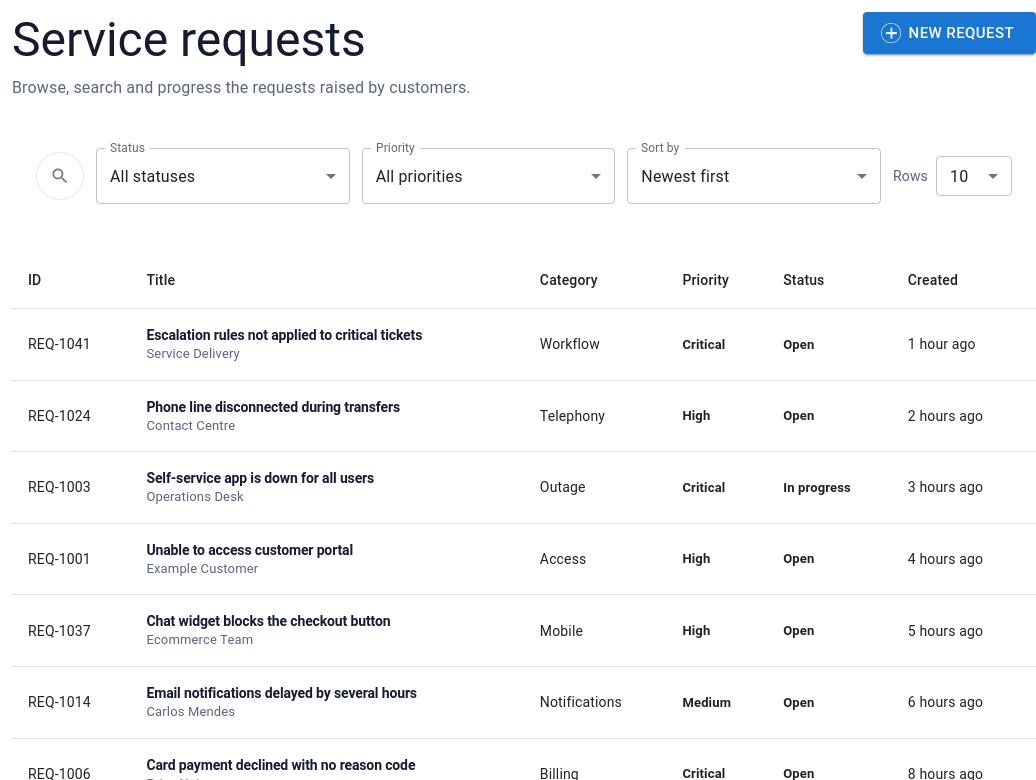
Scenario: RequestListPage › applies the status filter and offers a chip to remove it
Expected: the text "REQ-1001" is shown, [12,523,130,595]
Select "Closed" in the dropdown labelled "Status" at (223, 176), box [96,148,350,204]
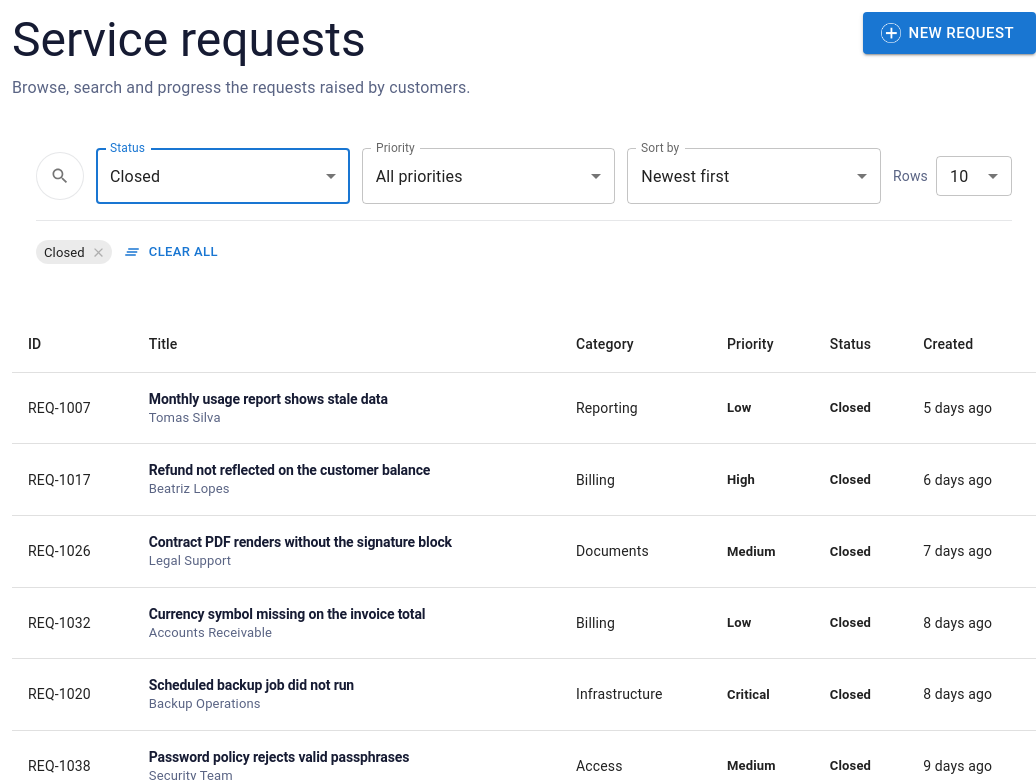
Now the text "Closed" in the row of "REQ-1007" is shown, box [830,400,871,416]
Now the text "In progress" is gone
Now the button named "Remove status filter" is shown, box [89,243,108,262]
